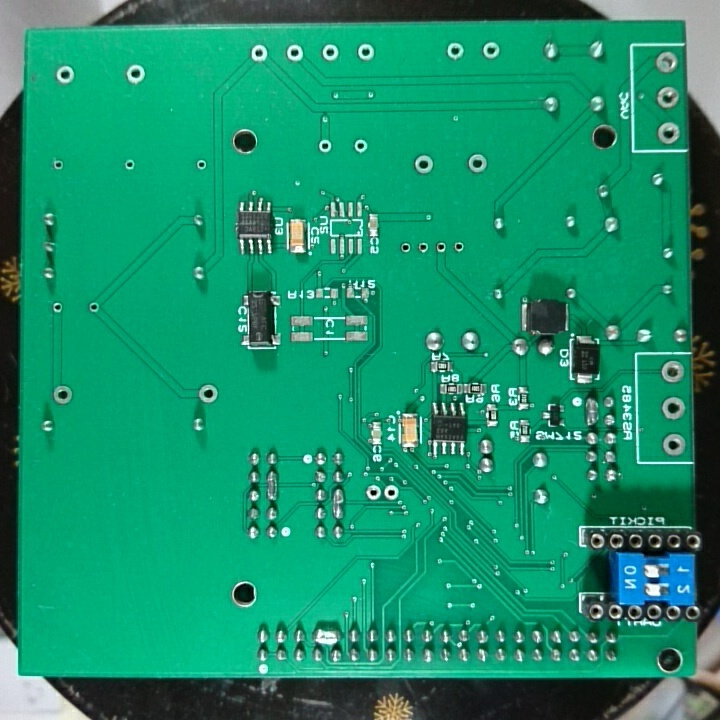F: (655, 120, 682, 147), (654, 84, 681, 111), (659, 358, 685, 386), (122, 61, 150, 86), (50, 381, 75, 409), (660, 395, 686, 421), (661, 431, 686, 458), (654, 49, 679, 76), (54, 63, 77, 91), (479, 38, 503, 63), (413, 152, 436, 178), (465, 150, 488, 175), (319, 41, 342, 66), (196, 381, 219, 406), (354, 41, 377, 65), (445, 40, 466, 66), (285, 42, 307, 65), (248, 43, 271, 65), (382, 480, 402, 504), (350, 136, 371, 158), (363, 481, 382, 503), (315, 136, 335, 156), (120, 155, 139, 175), (49, 298, 68, 318), (414, 238, 431, 258), (85, 298, 102, 318), (49, 157, 66, 175), (398, 239, 414, 258), (433, 238, 448, 257), (451, 237, 465, 255), (193, 157, 208, 173)
P: (310, 625, 345, 648), (329, 485, 348, 520), (583, 395, 600, 430), (264, 468, 282, 501)
